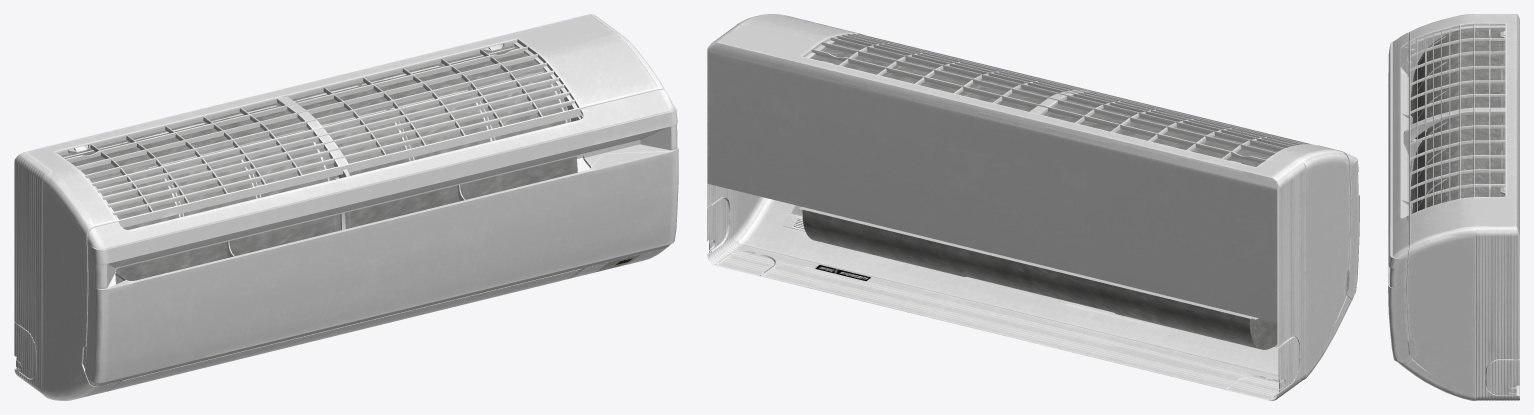
3 views of the same model, side by side, from view 1: azimuth 30°, elevation 25°; view 2: azimuth 150°, elevation 25°; view 3: azimuth 270°, elevation 25° (orthographic). The views are drawn at different scales.
Parts seen in each view (by area): view 1: Daikin FTXN25KEV1B_0; view 2: Daikin FTXN25KEV1B_0; view 3: Daikin FTXN25KEV1B_0.
Boxes of the visible parts, x1,y1,x2,y2 form: Daikin FTXN25KEV1B_0: (14,14,678,400); Daikin FTXN25KEV1B_0: (707,14,1359,400); Daikin FTXN25KEV1B_0: (1388,14,1519,400).
Bounding box in the file's own units: 1.16 × 0.4291 × 0.2949.
Materials: 1 (1 with a texture image).
